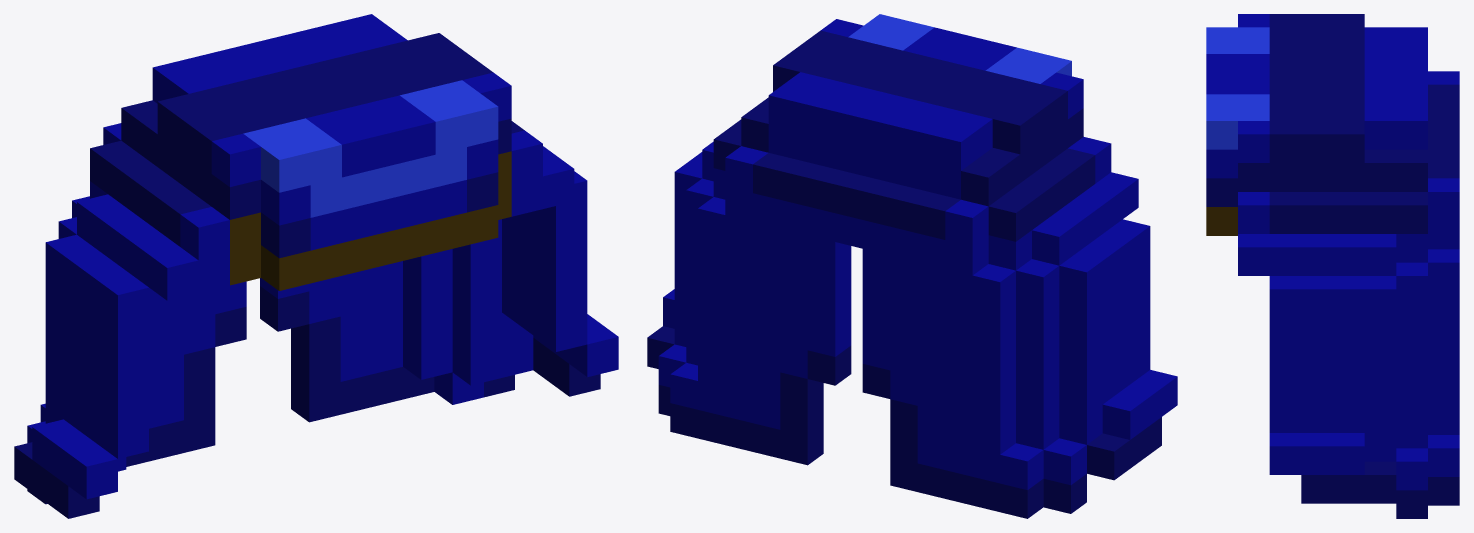
Rendered from AgriasHips.fbx.
3 views of the same model, side by side, from view 1: azimuth 30°, elevation 25°; view 2: azimuth 150°, elevation 25°; view 3: azimuth 270°, elevation 25° (orthographic). The views are drawn at different scales.
Parts seen in each view (by area): view 1: Union_1; view 2: Union_1; view 3: Union_1.
Part boxes in pixels (left/top/right/bottom): Union_1: left=14, top=14, right=618, bottom=518; Union_1: left=647, top=14, right=1177, bottom=518; Union_1: left=1206, top=14, right=1459, bottom=518.
Bounding box in the file's own units: 17 × 12 × 8.
1 material, 1 textured.
